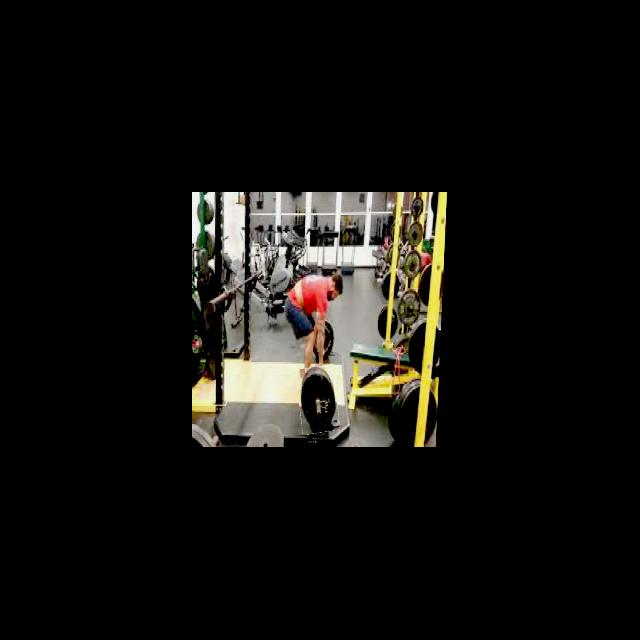barbell: (297, 366, 342, 434)
